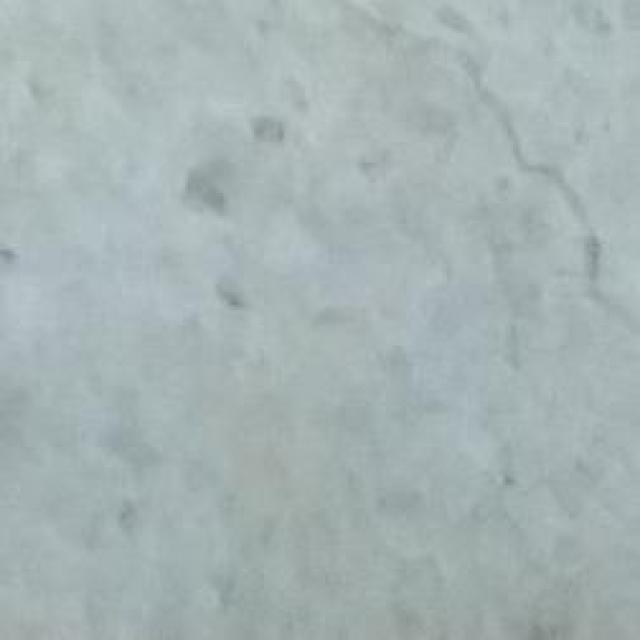Diagonal: (348, 2, 640, 378)
